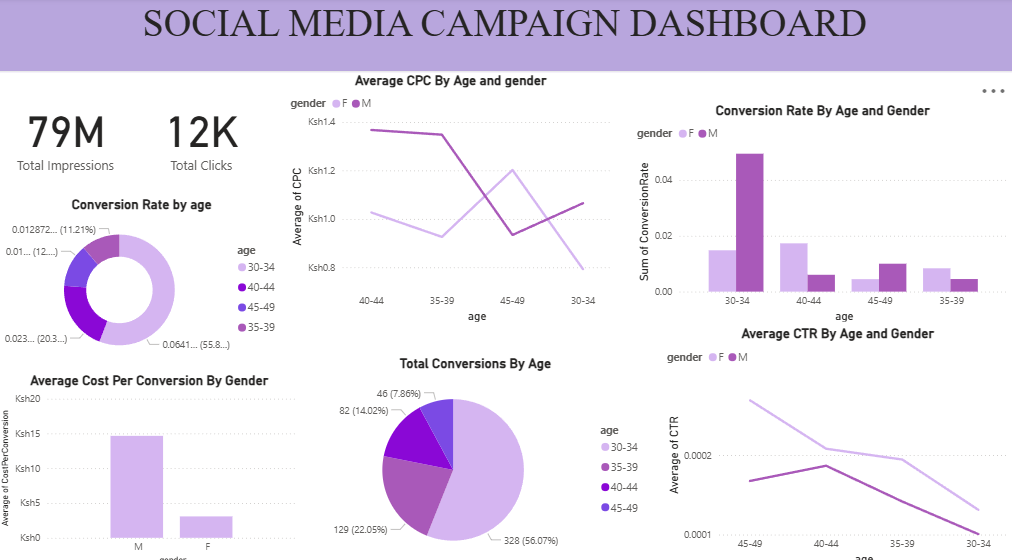

The page's visual inventory and layout, read from the dashboard file:
{"tool":"powerbi","page":{"name":"Page 1","canvas":[1280,720],"ordinal":0},"visuals":[{"type":"card","fields":{"Values":["Sum(data.clicks)"]},"box":[172,94.5,170.1,156.9],"z":1000},{"type":"card","fields":{"Values":["Sum(data.impressions)"]},"box":[0,94.5,172,156.9],"z":2000},{"type":"pieChart","title":"Total Conversions By Age","fields":{"Y":["Sum(data.approved_conversion)"],"Category":["data.age"]},"box":[383.6,451.7,438.4,268.3],"z":3000},{"type":"donutChart","title":"Conversion Rate by age","fields":{"Y":["Sum(data.ConversionRate)"],"Category":["data.age"]},"box":[0,251.3,364.7,215.4],"z":4000},{"type":"lineChart","title":"Average CTR By Age and Gender","fields":{"Category":["data.age"],"Y":["Avg(data.CTR)"],"Series":["data.gender"]},"box":[839.1,413.9,440.3,306.1],"z":5000},{"type":"clusteredColumnChart","title":"Average Cost Per Conversion By Gender","fields":{"Category":["data.gender"],"Y":["Avg(data.CostPerConversion)"]},"box":[0,472.4,383.6,247.6],"z":5002},{"type":"lineClusteredColumnComboChart","title":"Conversion Rate By Age and Gender","fields":{"Category":["data.age"],"Y":["Sum(data.ConversionRate)"],"Series":["data.gender"]},"box":[801.3,132.3,478.1,281.6],"z":5003},{"type":"lineChart","title":"Average CPC By Age and gender","fields":{"Category":["data.age"],"Y":["Avg(data.CPC)"],"Series":["data.gender"]},"box":[364.7,94.5,413.9,319.4],"z":5004},{"type":"textbox","box":[0,0,1279.4,94.5],"z":5005}]}

Visuals, with their boxes in screenshot pixels (x1, y1, x2, y2), scaled from the page's 1280x720 canvas onto the 1012x560 screenshot:
card - Sum(data.clicks): (left=136, top=74, right=270, bottom=196)
card - Sum(data.impressions): (left=0, top=74, right=136, bottom=196)
"Total Conversions By Age" pieChart: (left=303, top=351, right=650, bottom=559)
"Conversion Rate by age" donutChart: (left=0, top=195, right=288, bottom=363)
"Average CTR By Age and Gender" lineChart: (left=663, top=322, right=1011, bottom=559)
"Average Cost Per Conversion By Gender" clusteredColumnChart: (left=0, top=367, right=303, bottom=559)
"Conversion Rate By Age and Gender" lineClusteredColumnComboChart: (left=634, top=103, right=1011, bottom=322)
"Average CPC By Age and gender" lineChart: (left=288, top=74, right=616, bottom=322)
textbox: (left=0, top=0, right=1011, bottom=74)
